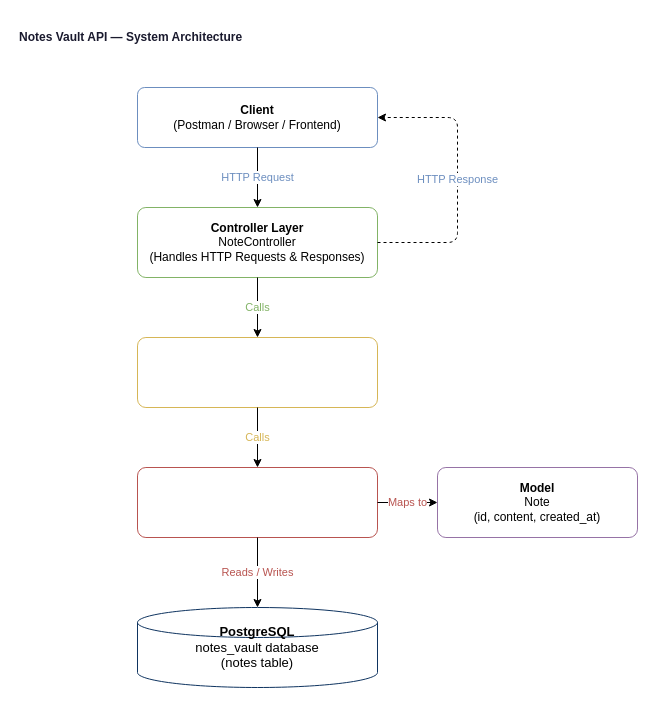
Some shapes in this 655 by 705 pixel diagram are drawn without their labels. The centre of each missing label's shape, as x and y in pixels:
Repository Layer NoteRepository (Data Access via Spring Data JPA): the point at 257,502
Service Layer NoteService (Business Logic): the point at 257,372
